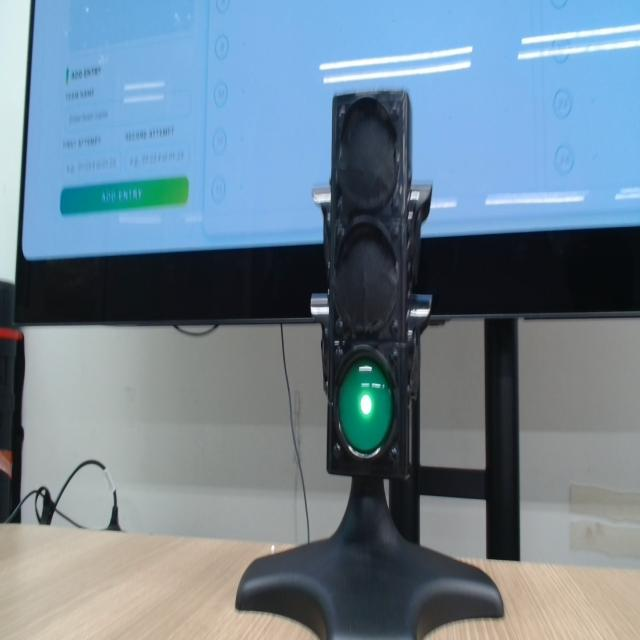green_light: (339, 358, 393, 455), (360, 395, 372, 415)
